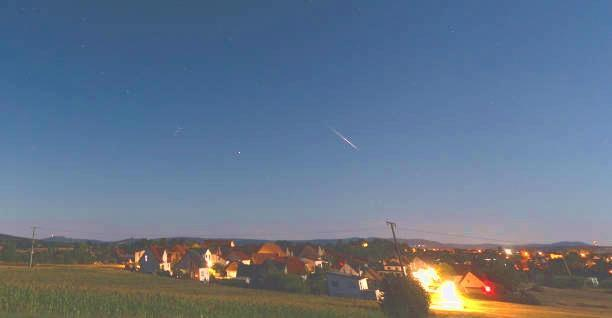meteorite: (316, 128, 371, 151)
